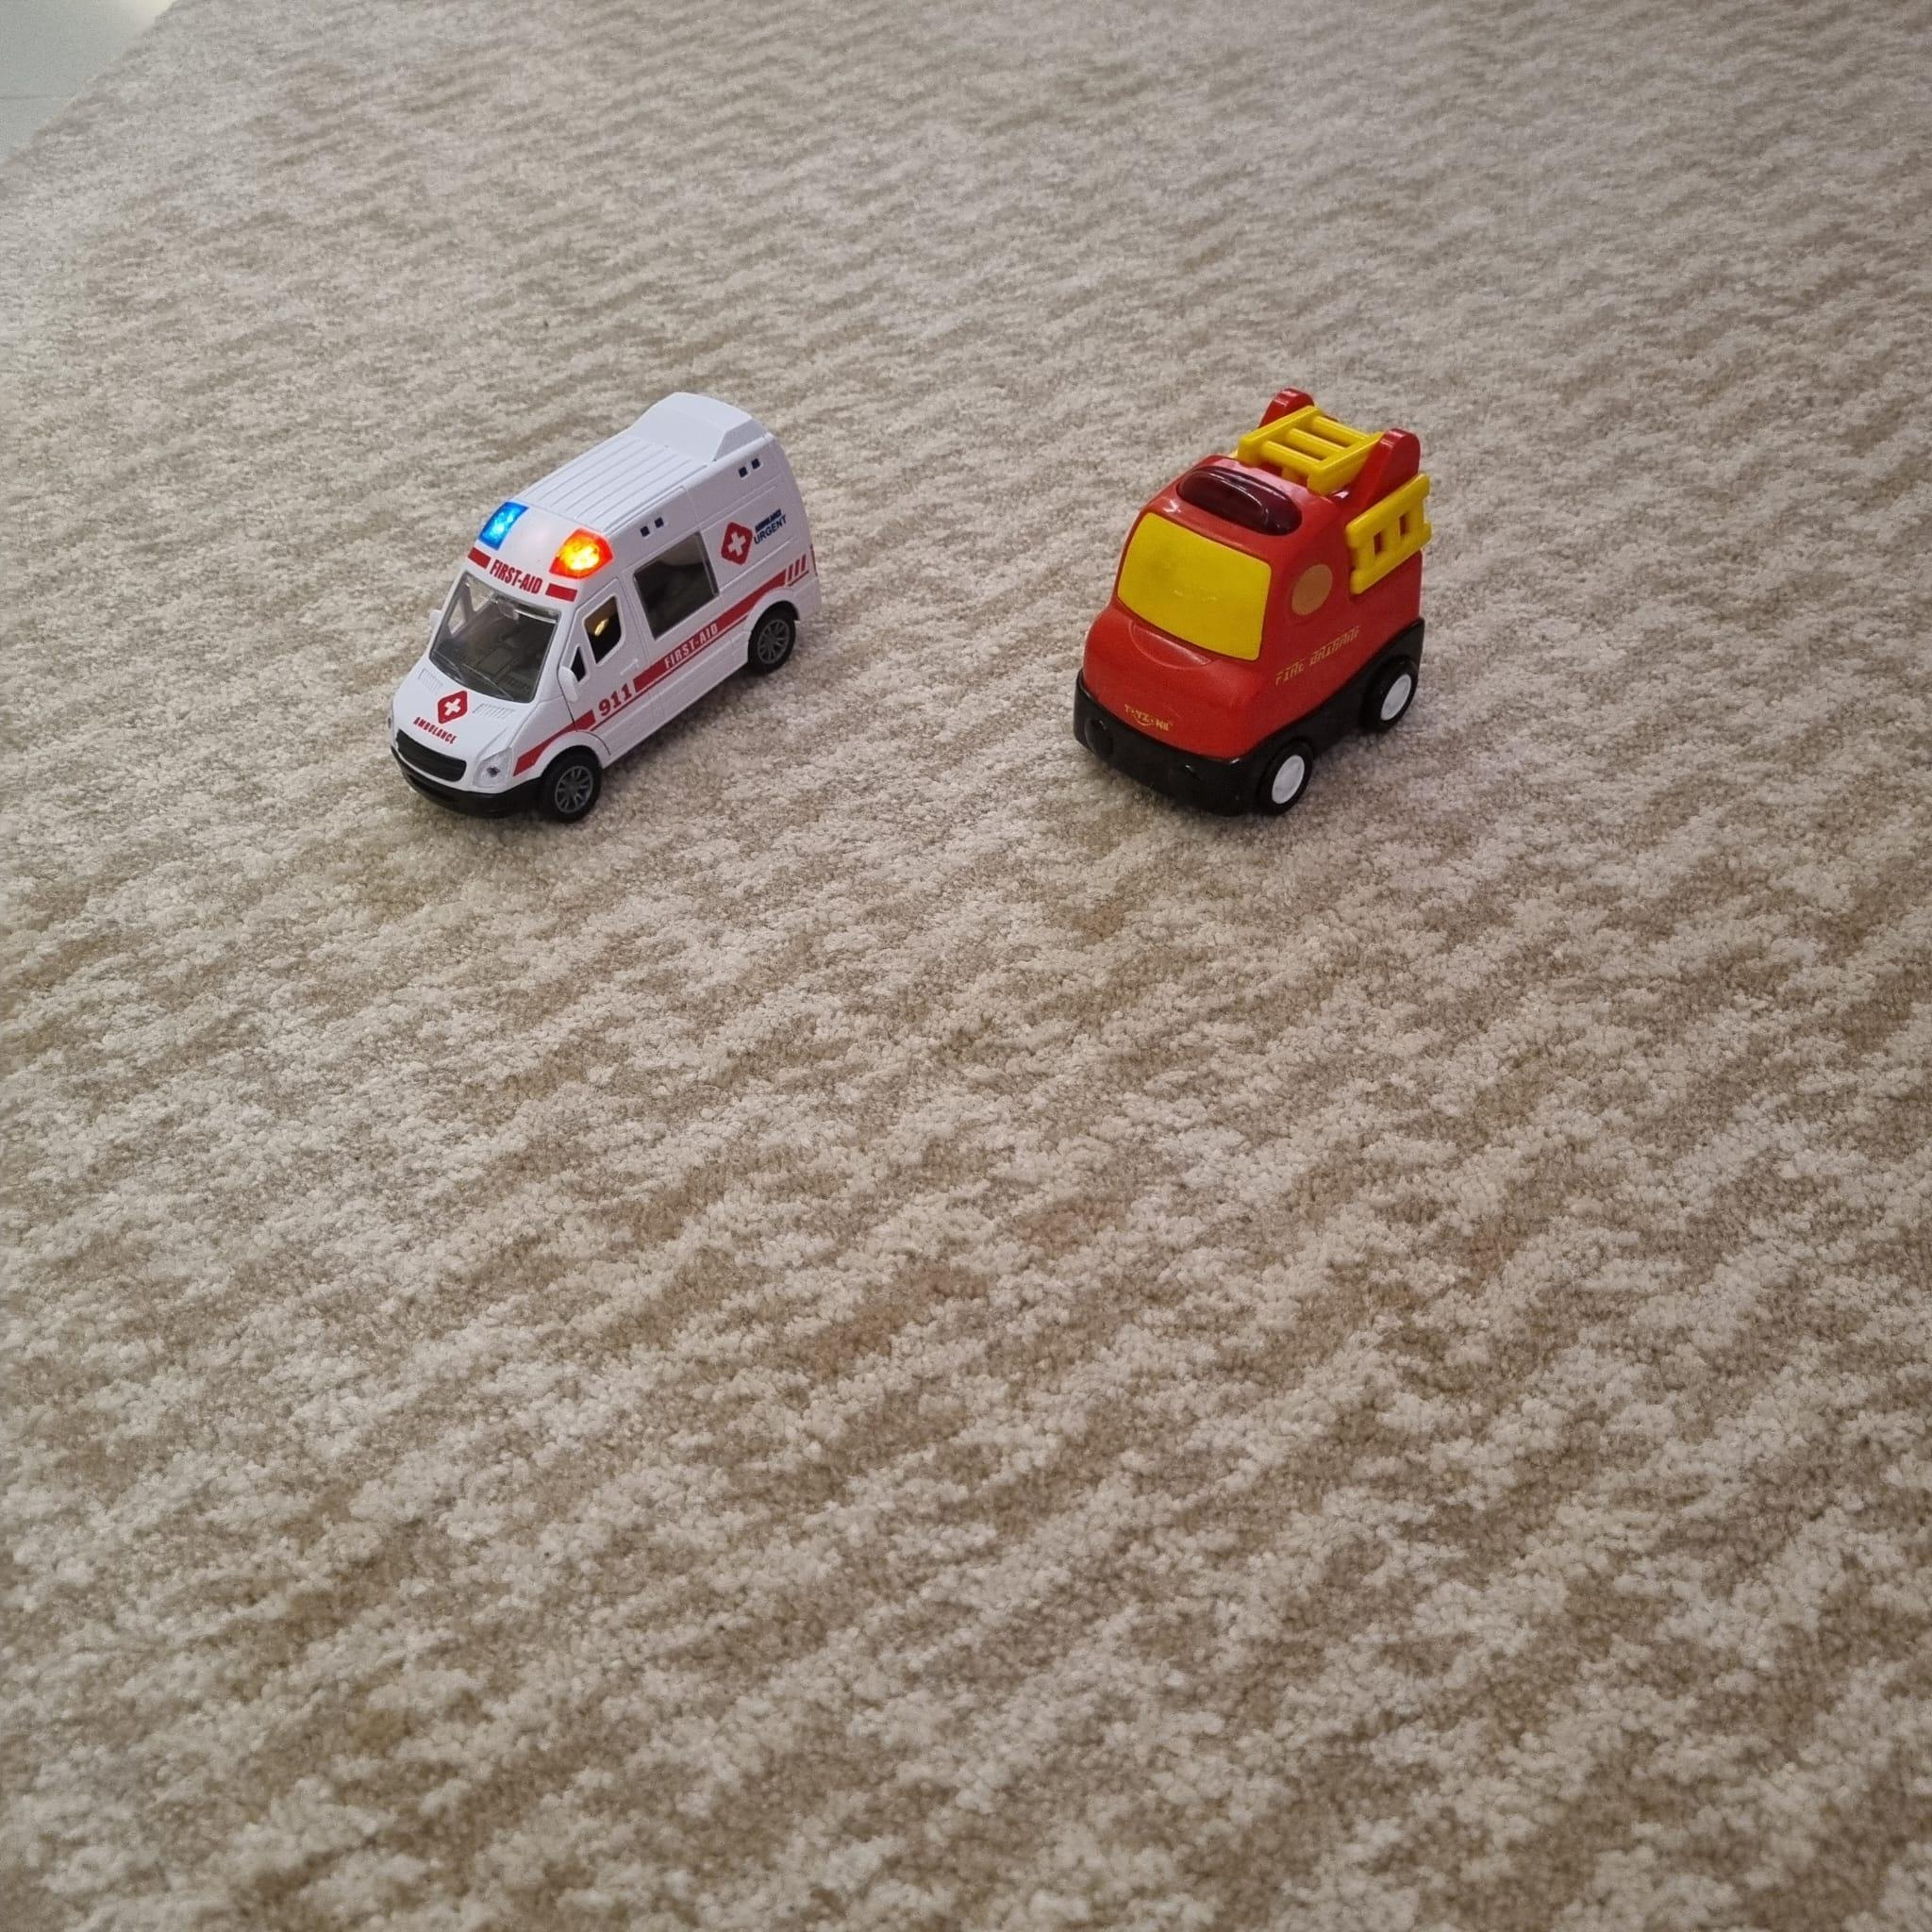ambulance_on: (389, 391, 816, 826)
firetruck_off: (1072, 395, 1422, 816)
